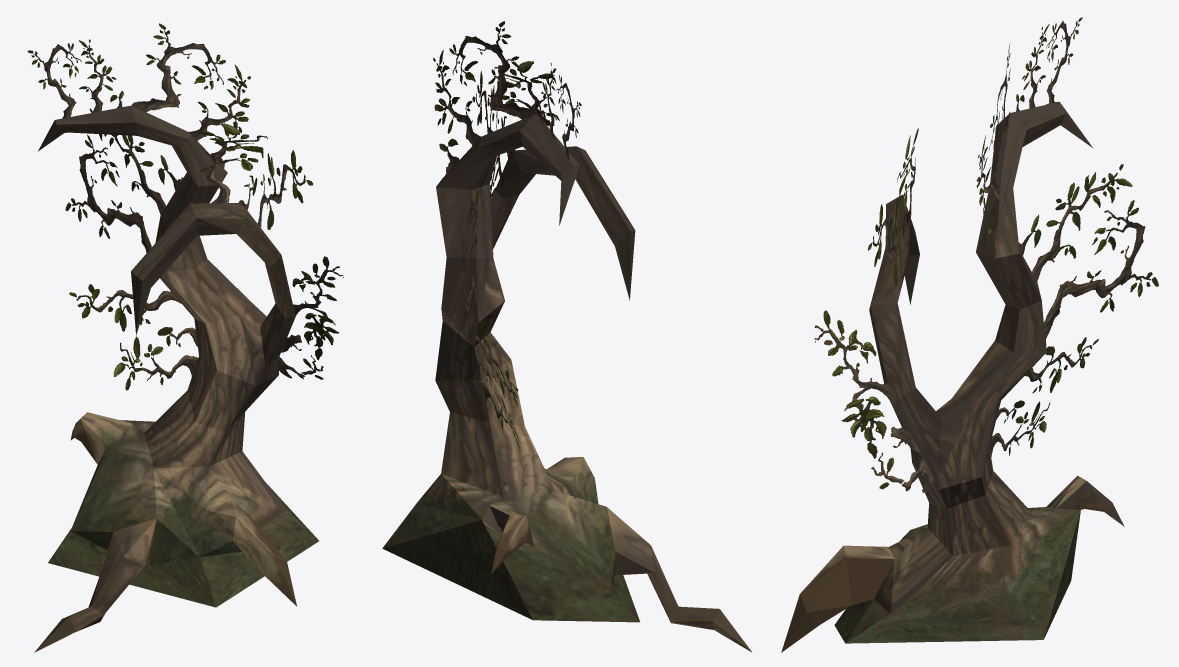
Rendered from plants_gnarled_tree_trunks04.fbx.
The picture shows the model from 3 angles, left to right: view 1: azimuth 30°, elevation 25°; view 2: azimuth 150°, elevation 25°; view 3: azimuth 270°, elevation 25°; orthographic projection. The views are drawn at different scales.
Visible parts, largest first — view 1: obj0.132; view 2: obj0.132; view 3: obj0.132.
Boxes of the visible parts, box(x1,y1,x2,y2) form: obj0.132: box(27, 23, 343, 652); obj0.132: box(382, 21, 751, 652); obj0.132: box(781, 17, 1158, 652).
Size of the model in its own units: 6.6 by 12.56 by 6.81.
